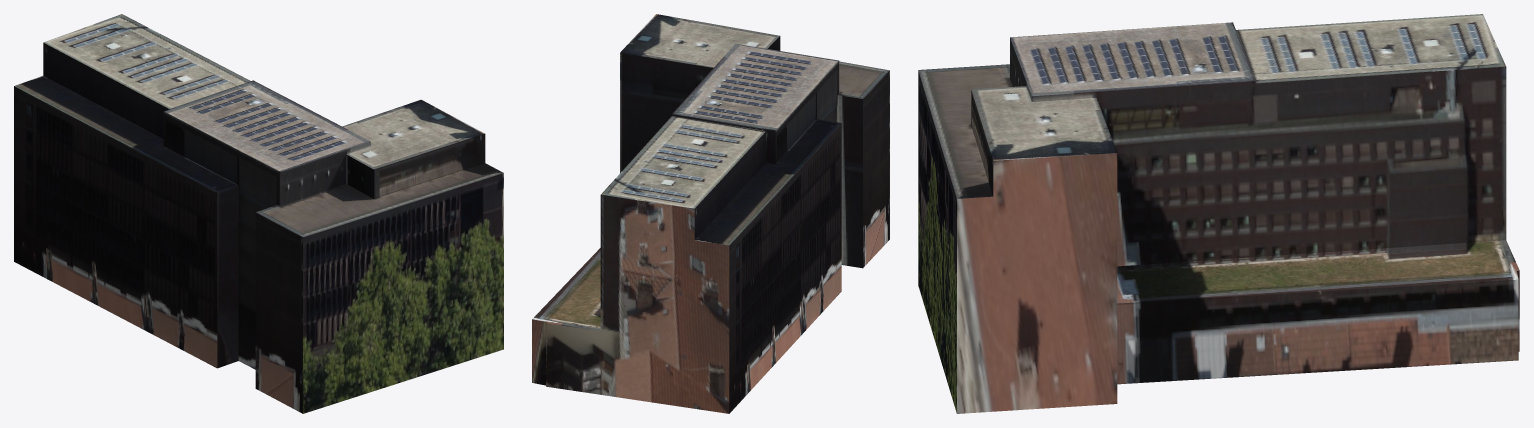
3 renders of one model, left to right at view 1: azimuth 30°, elevation 25°; view 2: azimuth 150°, elevation 25°; view 3: azimuth 270°, elevation 25°, orthographic. The views are drawn at different scales.
Parts seen in each view (by area): view 1: Z_UP; view 2: Z_UP; view 3: Z_UP.
Boxes of the visible parts, box(x1,y1,x2,y2) form: Z_UP: box(14, 14, 503, 413); Z_UP: box(532, 14, 889, 413); Z_UP: box(918, 14, 1519, 413).
Bounding box in the file's own units: 33.74 × 24.47 × 51.98.
2 materials, 1 textured.
